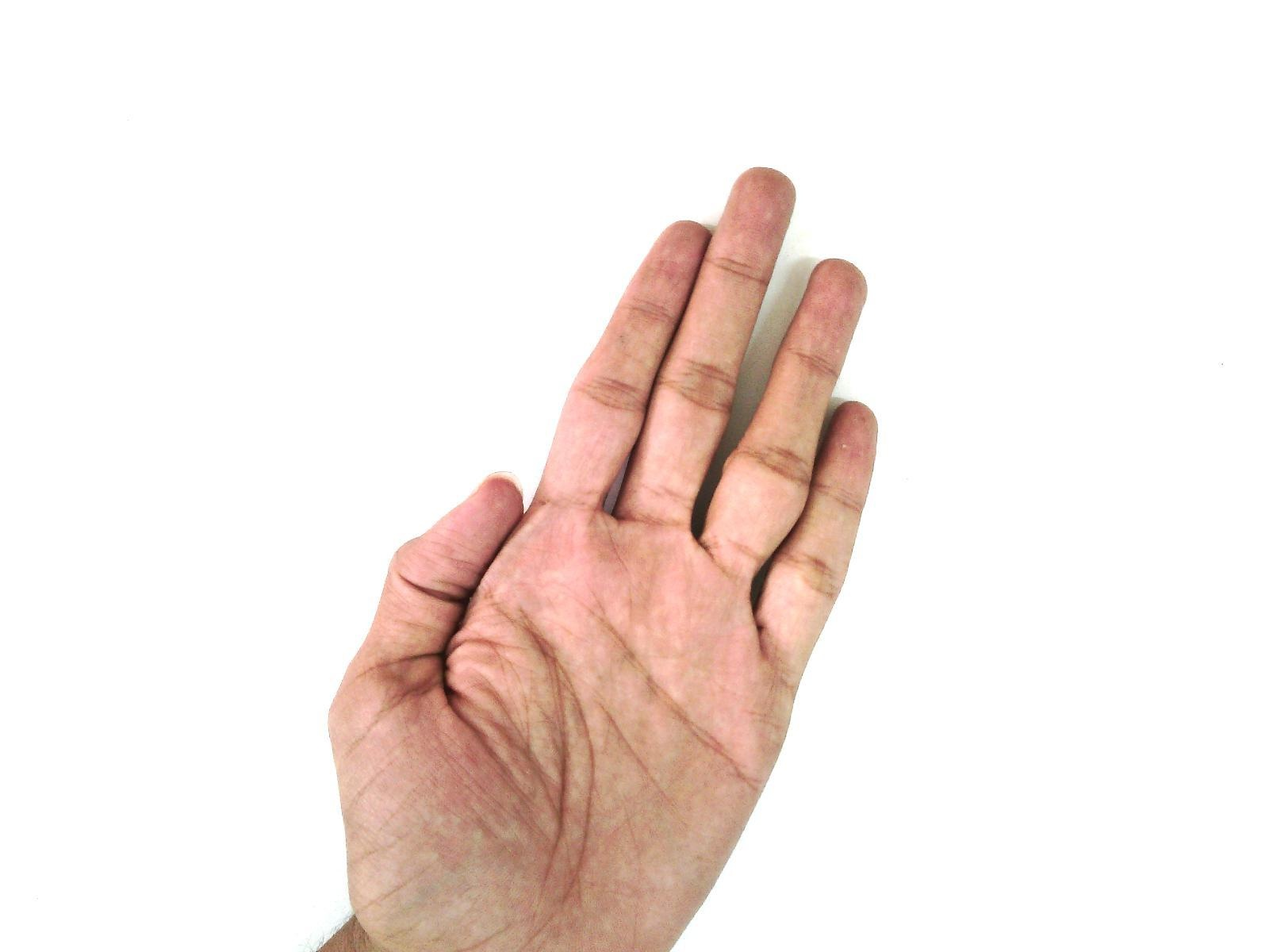open_palm: (320, 165, 882, 952)
